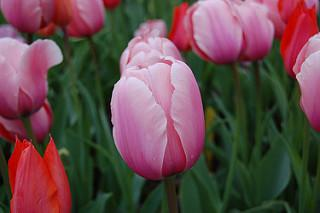tulip: (108, 61, 207, 178), (4, 134, 74, 213), (0, 35, 67, 117), (188, 0, 248, 67), (293, 34, 320, 133), (0, 99, 54, 145), (117, 34, 184, 68), (54, 0, 106, 37), (1, 0, 54, 36)
